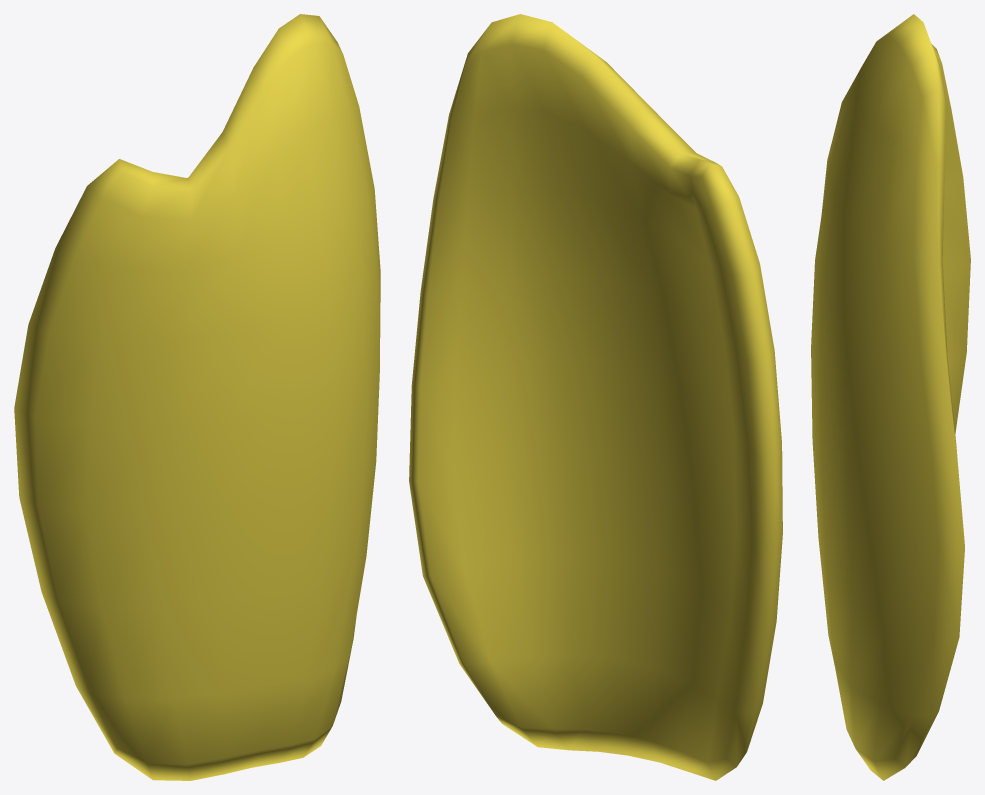
File: petalo_amarillo.fbx
3 views of the same model, side by side, from view 1: azimuth 30°, elevation 25°; view 2: azimuth 150°, elevation 25°; view 3: azimuth 270°, elevation 25° (orthographic). The views are drawn at different scales.
Visible parts, largest first — view 1: petalo.amarillo; view 2: petalo.amarillo; view 3: petalo.amarillo.
Part boxes in pixels (<box>): petalo.amarillo: <box>14,14,380,780</box>; petalo.amarillo: <box>409,14,782,780</box>; petalo.amarillo: <box>811,14,970,780</box>.
Bounding box in the file's own units: 7.7 × 15.04 × 2.87.
